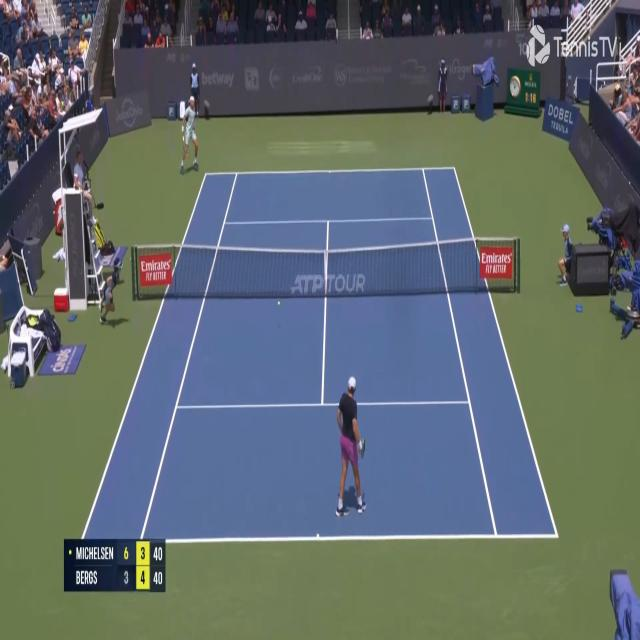tennis-player: (333, 372, 370, 522), (173, 92, 201, 173)
